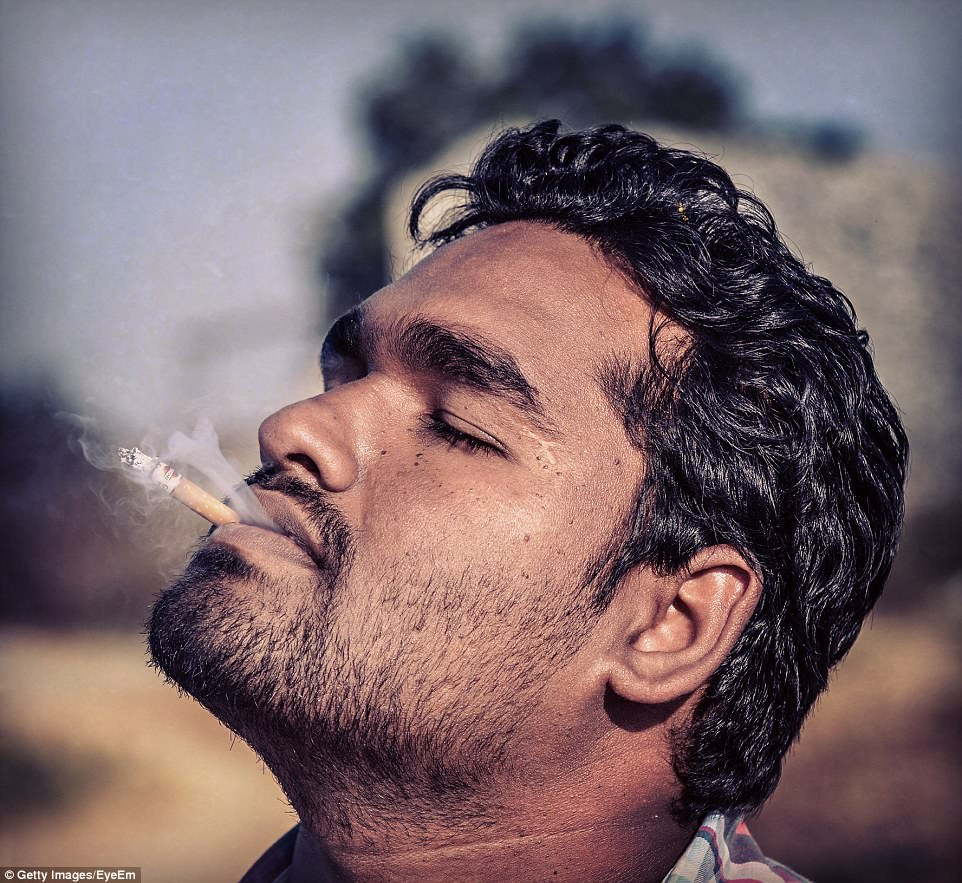cigarette: (102, 439, 250, 537)
